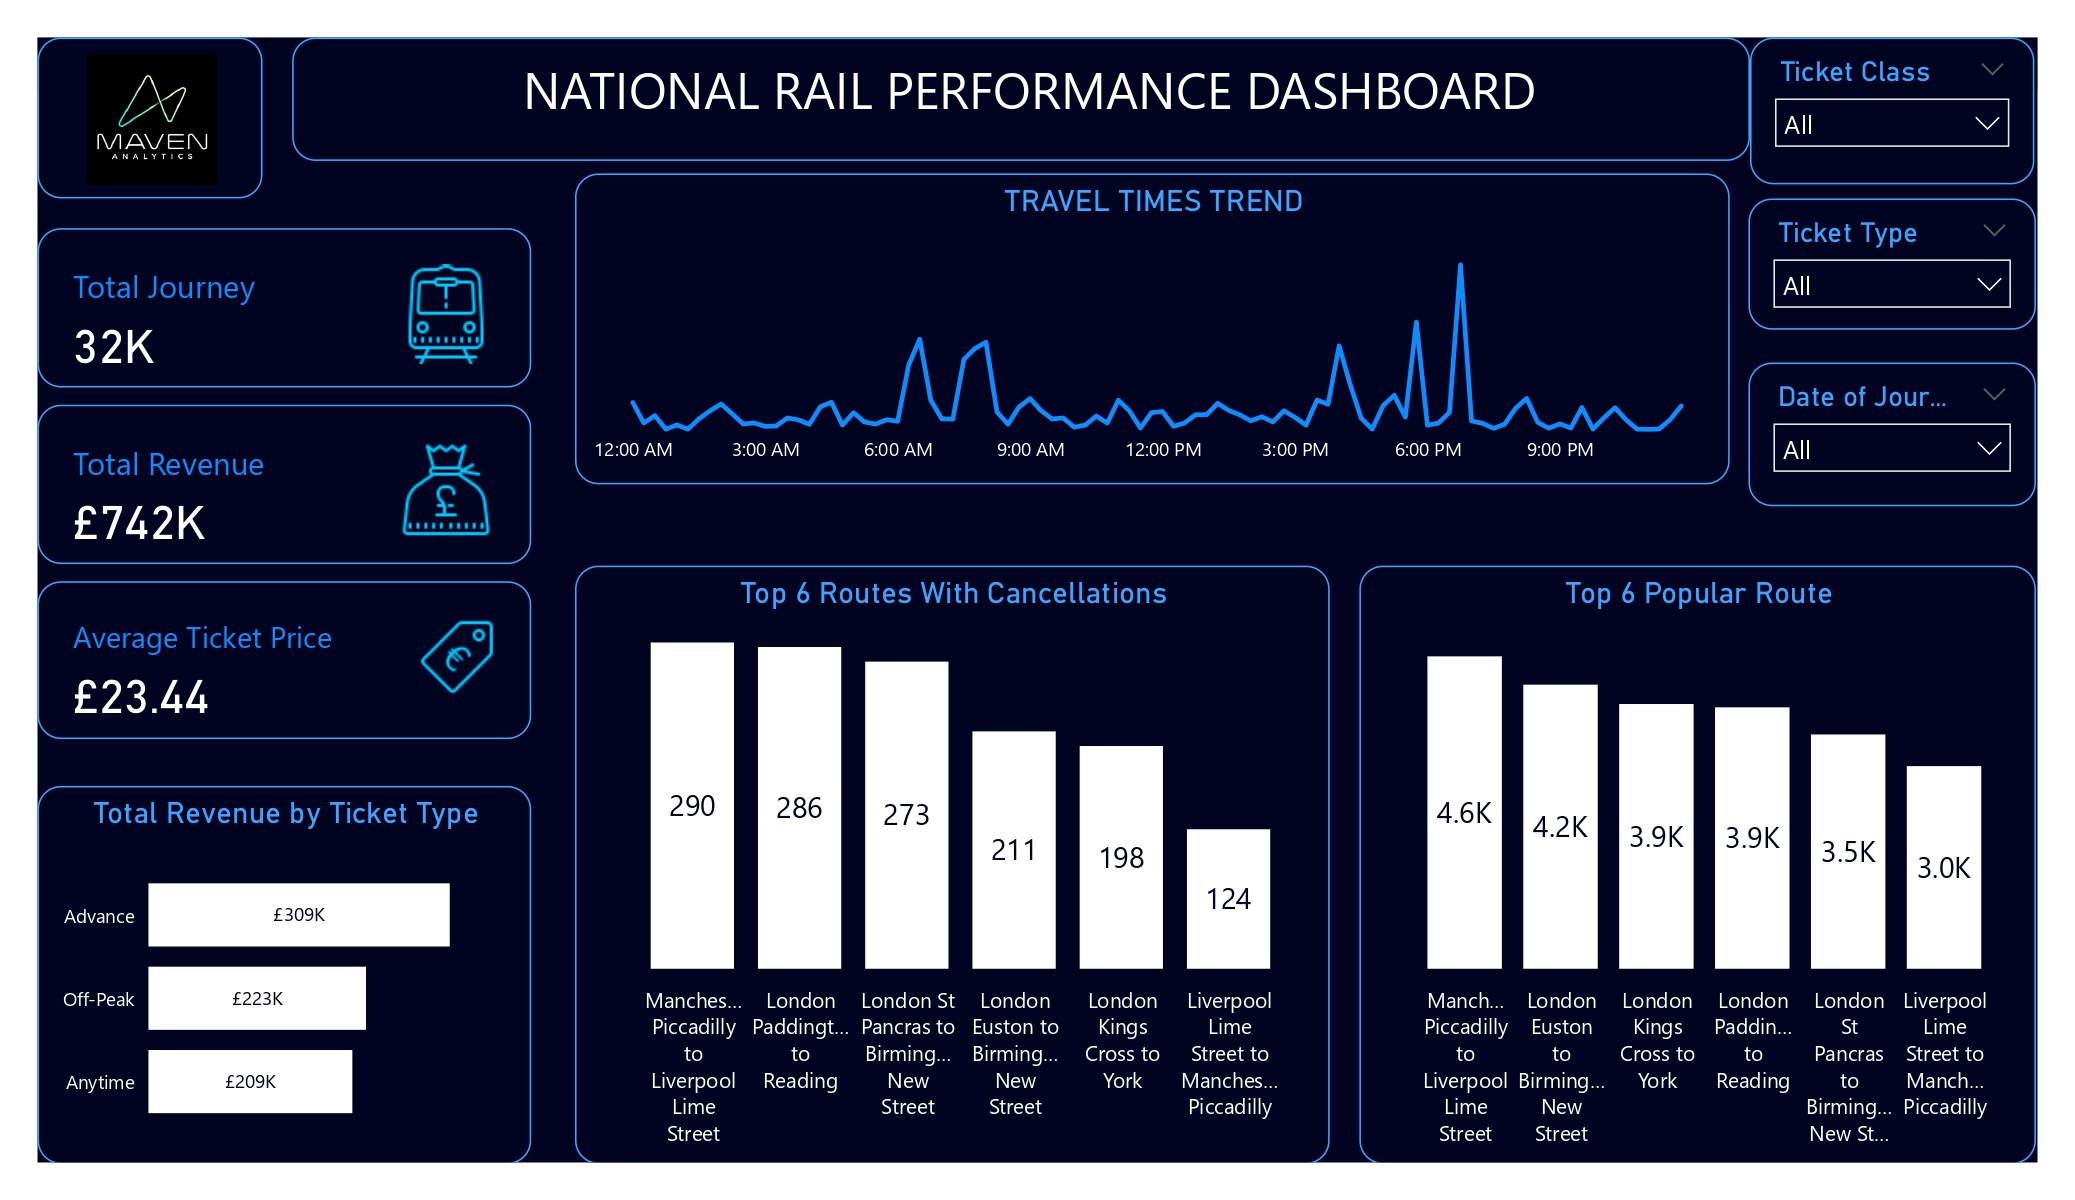

What the dashboard file says about the page in this screenshot:
{"tool":"powerbi","page":{"name":"Page 1","canvas":[1280,720],"ordinal":0},"visuals":[{"type":"textbox","box":[163,0,932.6,79.4],"z":0},{"type":"image","box":[0,0,144.4,103.2],"z":1000},{"type":"cardVisual","title":"TOTAL REVENUE","fields":{"Data":["Measure table.Total revenue"]},"box":[0,234.9,315.9,101.6],"z":2000},{"type":"slicer","fields":{"Values":["railway.Ticket Class"]},"box":[1095.6,0,182.8,93.5],"z":3000},{"type":"cardVisual","title":"TOTAL JOURNEY","fields":{"Data":["Measure table.Route count"]},"box":[0,122.2,315.9,101.6],"z":4000},{"type":"slicer","fields":{"Values":["railway.Ticket Type"]},"box":[1095.2,103.2,184.1,84.1],"z":5000},{"type":"columnChart","title":"Top 6 Popular Route","fields":{"Category":["railway.Route"],"Y":["Measure table.Route count"]},"box":[846,338.1,433.3,382.5],"z":6000},{"type":"lineChart","title":"TRAVEL TIMES TREND","fields":{"Category":["railway.Departure Time"],"Y":["Measure table.Route count"]},"box":[344.4,87.3,738.1,198.4],"z":7000},{"type":"clusteredBarChart","title":"Total Revenue by Ticket Type","fields":{"Category":["railway.Ticket Type"],"Y":["Measure table.Total revenue"]},"box":[0,479.4,315.9,241.3],"z":8000},{"type":"columnChart","title":"Top 6 Routes With Cancellations","fields":{"Category":["railway.Route"],"Y":["CountNonNull(railway.Journey Status)"]},"box":[344.4,338.1,482.5,382.5],"z":10000},{"type":"cardVisual","title":"AVERAGE TICKET PRICE","fields":{"Data":["Measure table.Average price"]},"box":[0,347.6,315.9,101.6],"z":11000},{"type":"slicer","fields":{"Values":["railway.Date of Journey"]},"box":[1095.2,207.9,184.1,92.1],"z":12000}]}

Visuals, with their boxes in screenshot pixels (x1, y1, x2, y2):
textbox: l=292, t=38, r=1749, b=162
image: l=38, t=38, r=263, b=199
"TOTAL REVENUE" cardVisual: l=38, t=405, r=531, b=563
slicer - railway.Ticket Class: l=1749, t=38, r=2035, b=184
"TOTAL JOURNEY" cardVisual: l=38, t=228, r=531, b=387
slicer - railway.Ticket Type: l=1749, t=199, r=2036, b=330
"Top 6 Popular Route" columnChart: l=1359, t=566, r=2036, b=1162
"TRAVEL TIMES TREND" lineChart: l=576, t=174, r=1729, b=484
"Total Revenue by Ticket Type" clusteredBarChart: l=38, t=787, r=531, b=1162
"Top 6 Routes With Cancellations" columnChart: l=576, t=566, r=1330, b=1162
"AVERAGE TICKET PRICE" cardVisual: l=38, t=581, r=531, b=739
slicer - railway.Date of Journey: l=1749, t=362, r=2036, b=506
